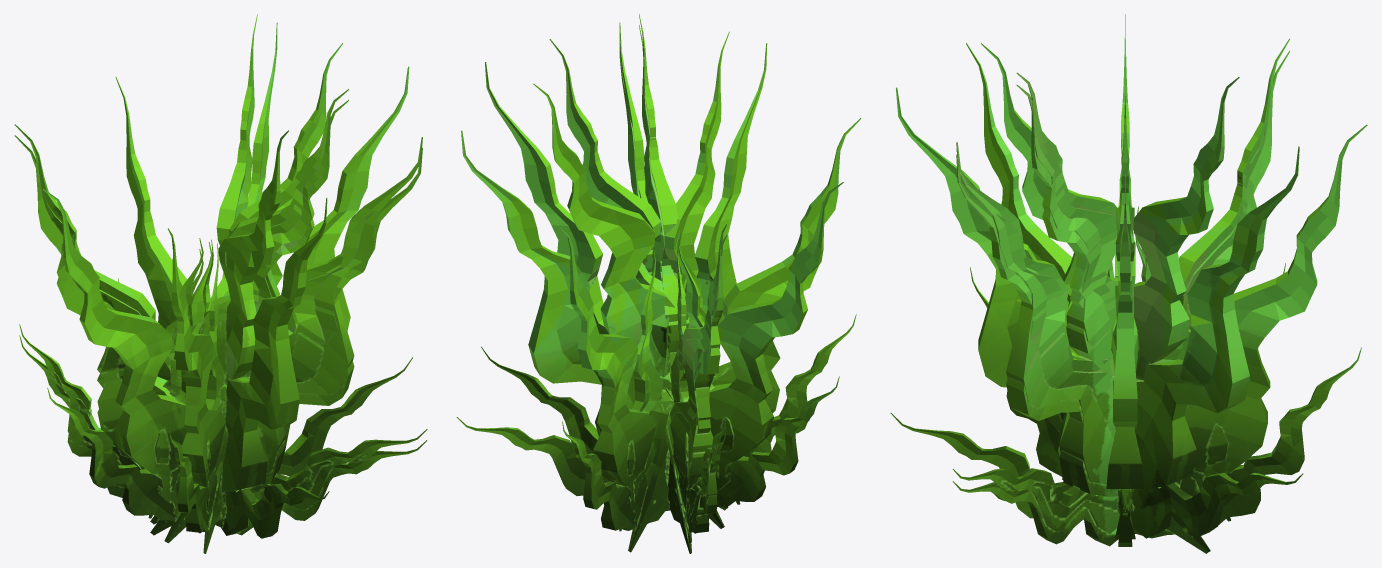
Rendered from algas.fbx.
3 renders of one model, left to right at view 1: azimuth 30°, elevation 25°; view 2: azimuth 150°, elevation 25°; view 3: azimuth 270°, elevation 25°, orthographic. The views are drawn at different scales.
Parts seen in each view (by area): view 1: Cube.004; view 2: Cube.004; view 3: Cube.004.
Boxes of the visible parts, left/top/right/bottom form: Cube.004: left=14, top=14, right=427, bottom=553; Cube.004: left=456, top=14, right=861, bottom=553; Cube.004: left=890, top=14, right=1367, bottom=553.
Bounding box in the file's own units: 369 × 446 × 369.
Materials: 1 (1 with a texture image).
